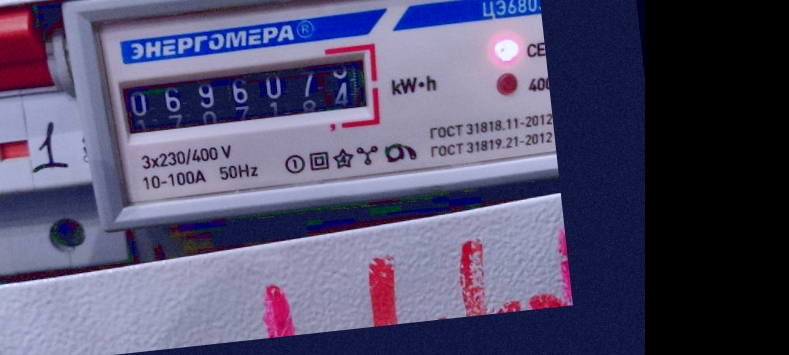0: (262, 69, 283, 101), (128, 88, 148, 117)
4: (330, 77, 350, 108)
6: (229, 74, 249, 105), (162, 83, 182, 113)
7: (296, 66, 318, 99)
9: (195, 79, 215, 109)
screen: (104, 38, 388, 152)
